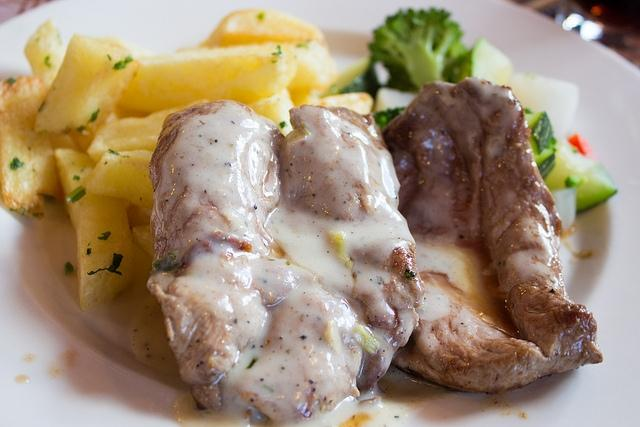broccoli: (368, 7, 464, 90)
vegetable marrow: (544, 132, 618, 215), (448, 37, 514, 86), (322, 56, 380, 100), (376, 88, 416, 112), (374, 105, 407, 130)
